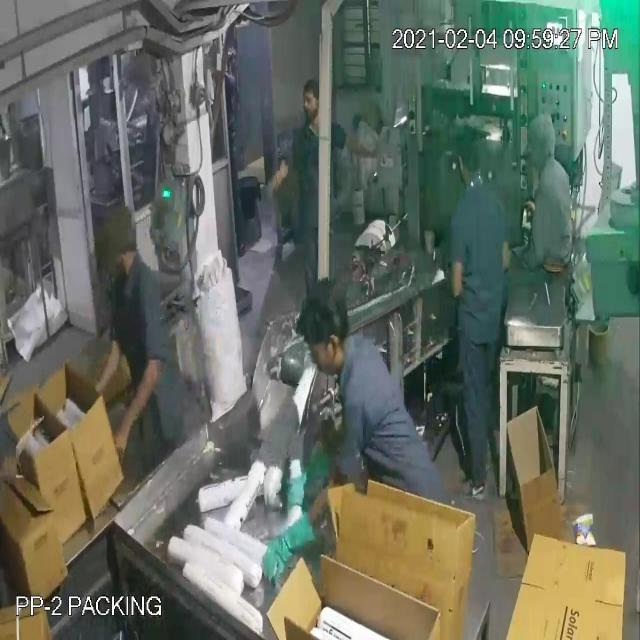No_Gloves: (43, 52, 365, 550)
